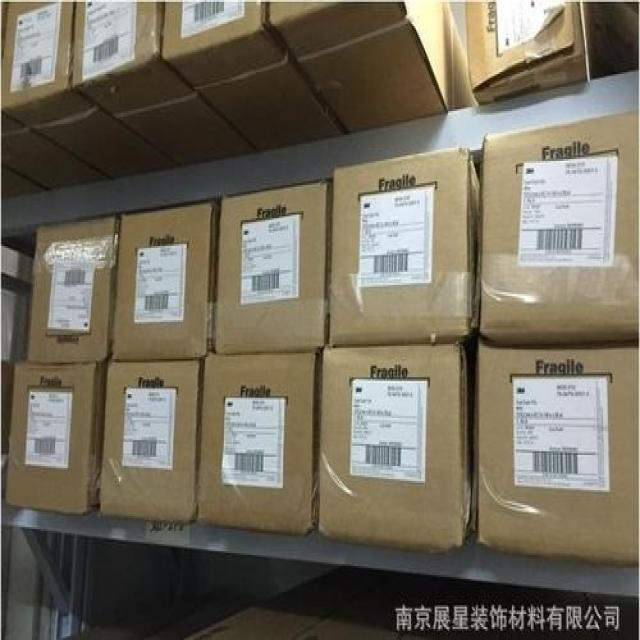box: (473, 335, 639, 560), (482, 111, 639, 347), (318, 345, 474, 548), (71, 1, 259, 168), (1, 2, 175, 180), (330, 146, 482, 345), (268, 3, 480, 137), (162, 1, 349, 152), (199, 353, 320, 534), (215, 181, 332, 354), (113, 200, 219, 363), (97, 361, 203, 524), (4, 365, 108, 513), (28, 216, 119, 363), (466, 1, 587, 105), (0, 113, 109, 192), (582, 2, 639, 80), (1, 162, 47, 201)
